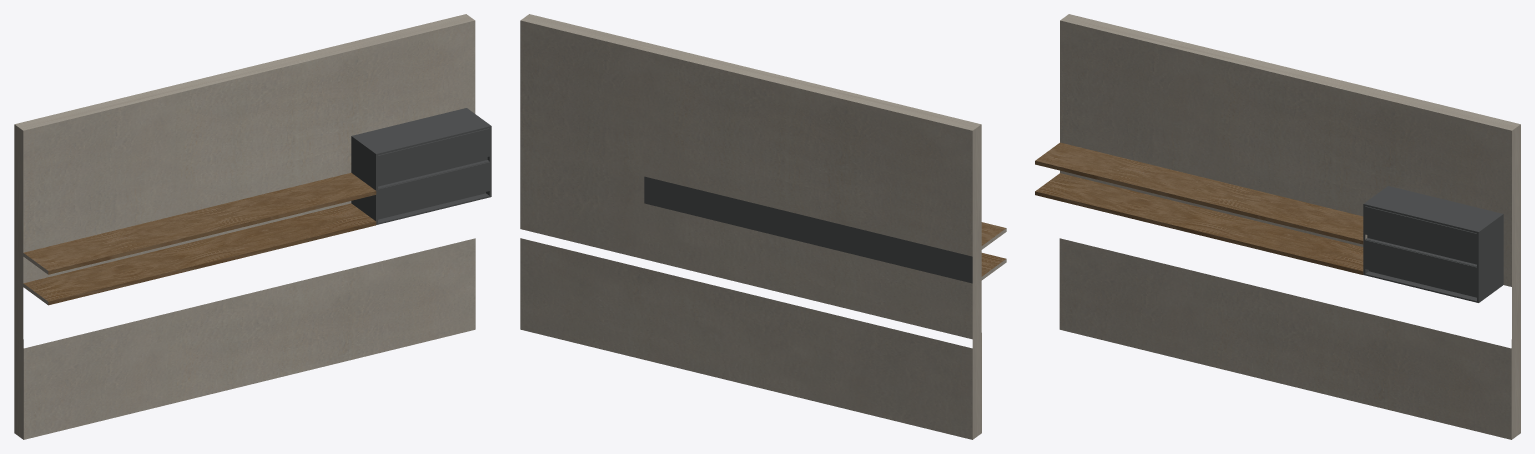
File: backwall.glb
The picture shows the model from 3 angles, left to right: view 1: azimuth 30°, elevation 25°; view 2: azimuth 150°, elevation 25°; view 3: azimuth 330°, elevation 25°; orthographic projection.
Parts seen in each view (by area): view 1: Wallup.001, shelf, shelfBox; view 2: Wallup.001, shelfBox, shelf; view 3: Wallup.001, shelf, shelfBox.
Boxes of the visible parts, bbox=[...] form: Wallup.001: bbox=[14, 14, 475, 439]; shelf: bbox=[23, 172, 376, 305]; shelfBox: bbox=[351, 108, 491, 224]; Wallup.001: bbox=[520, 14, 1006, 439]; shelfBox: bbox=[644, 176, 972, 283]; shelf: bbox=[981, 222, 1005, 276]; Wallup.001: bbox=[1059, 14, 1520, 439]; shelf: bbox=[1035, 142, 1363, 274]; shelfBox: bbox=[1363, 186, 1503, 302].
Size of the model in its own units: 163 by 107 by 21.18.
3 materials, 2 textured.
